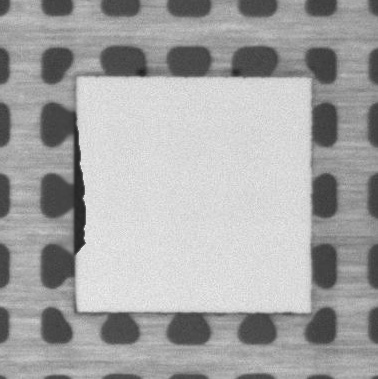DIE_BROKEN: (71, 108, 88, 257)
